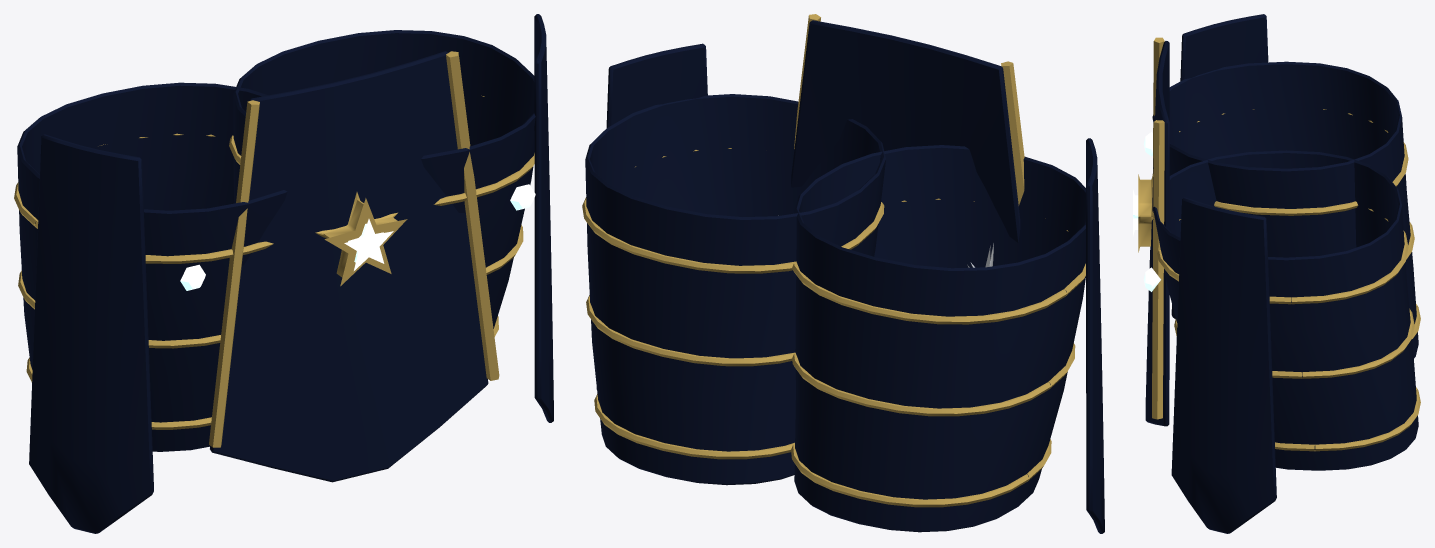
The model's file is esc_unmade_sky_sage_leggings.glb.
The picture shows the model from 3 angles, left to right: view 1: azimuth 30°, elevation 25°; view 2: azimuth 150°, elevation 25°; view 3: azimuth 270°, elevation 25°; orthographic projection. The views are drawn at different scales.
Visible parts, largest first — view 1: esc_unmade_sky_sage_leggings, AT_thigh_R, AT_thigh_L; view 2: AT_thigh_R, AT_thigh_L, esc_unmade_sky_sage_leggings; view 3: AT_thigh_L, AT_thigh_R, esc_unmade_sky_sage_leggings.
Boxes of the visible parts, left/top/right/bottom form: esc_unmade_sky_sage_leggings: left=209, top=51, right=499, bottom=482; AT_thigh_R: left=14, top=82, right=287, bottom=533; AT_thigh_L: left=229, top=14, right=553, bottom=422; AT_thigh_R: left=791, top=138, right=1104, bottom=533; AT_thigh_L: left=582, top=43, right=885, bottom=485; esc_unmade_sky_sage_leggings: left=778, top=14, right=1024, bottom=267; AT_thigh_L: left=1143, top=150, right=1420, bottom=533; AT_thigh_R: left=1143, top=14, right=1420, bottom=358; esc_unmade_sky_sage_leggings: left=1133, top=37, right=1169, bottom=426.
Size of the model in its own units: 0.5162 by 0.4068 by 0.2984.
